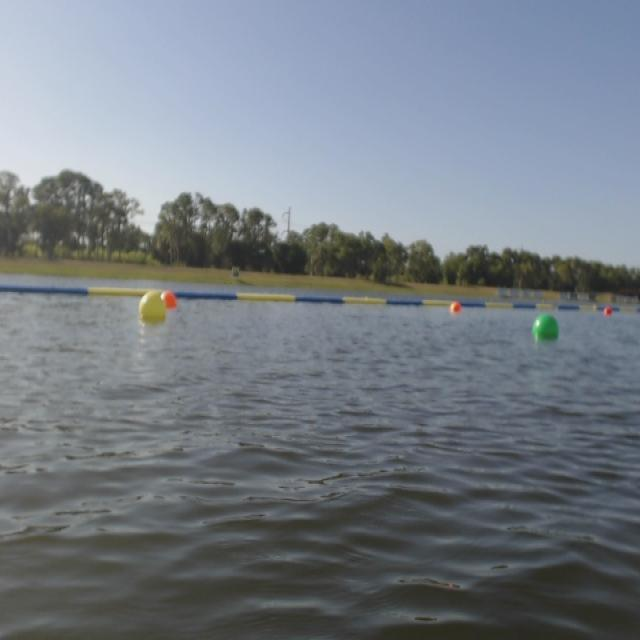Green_Buoy: (538, 313, 552, 338)
Orange__Buoy: (162, 287, 186, 312), (442, 299, 467, 313), (600, 303, 617, 320)
